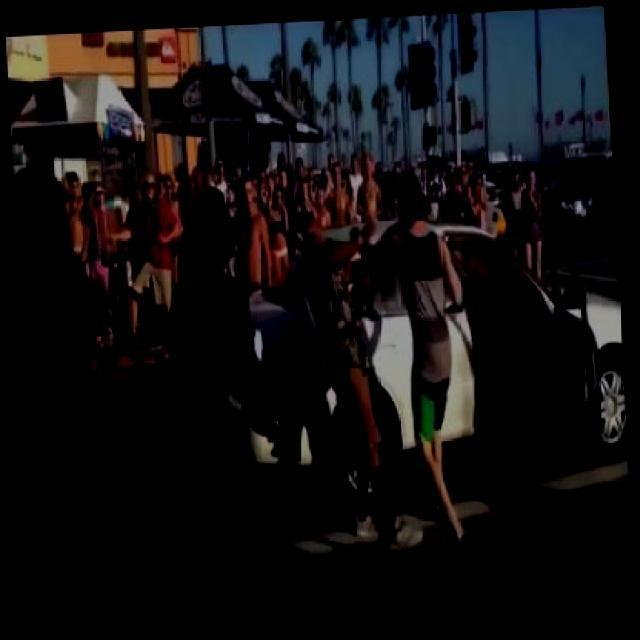fight: (286, 170, 476, 561)
non-fight: (162, 184, 290, 612)
